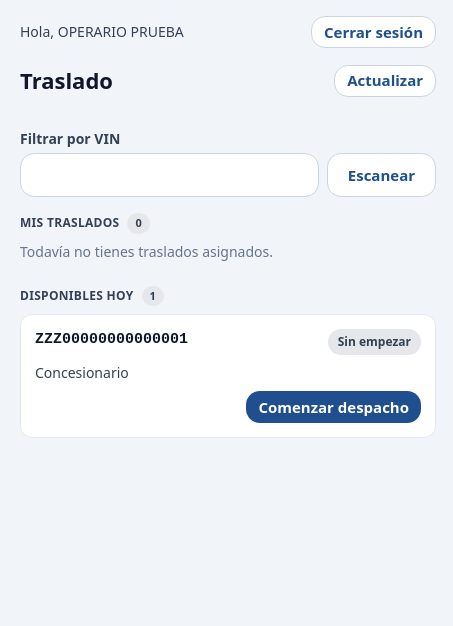
it: los mensajes de cada caso › AC4 · 422 del servidor: «formato de VIN inválido»
The image size is (453, 626).
Type "LSCABN3E2VE840638" into the search field labelled "Filtrar por VIN". click: {"x": 169, "y": 175}
box: [20, 153, 319, 197]
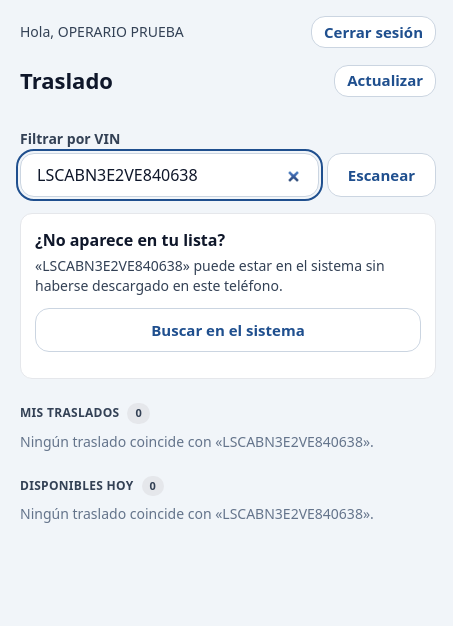
Click the button "Buscar en el sistema". click: {"x": 228, "y": 330}
box: [35, 308, 421, 352]
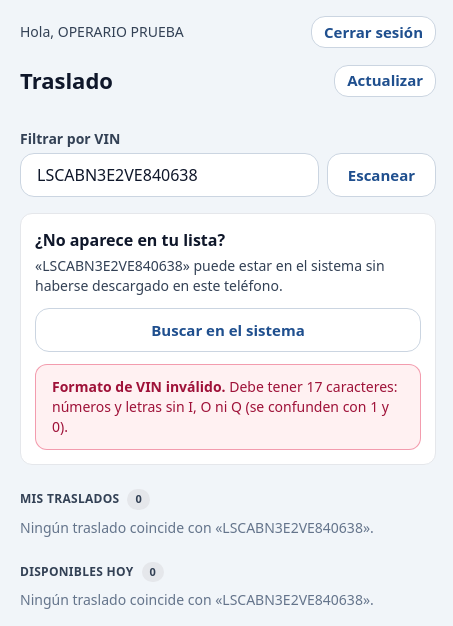
Expected: the text "Formato de VIN inválido." is shown, [52, 377, 226, 396]
